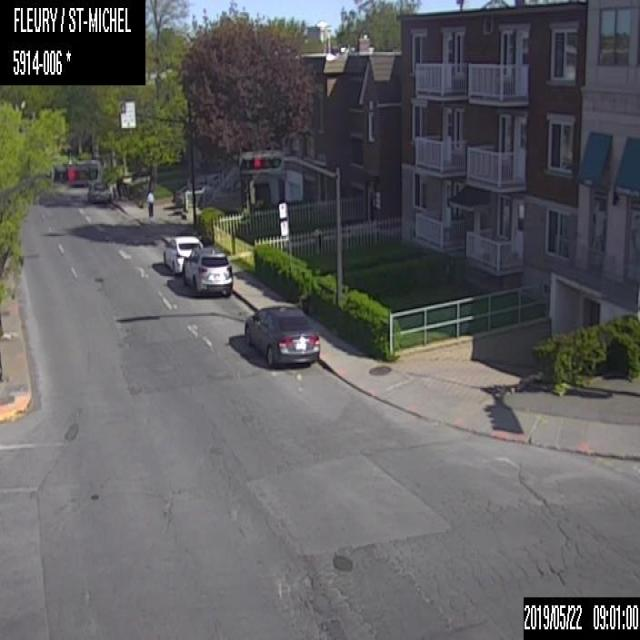pedestrian: (146, 188, 154, 217)
vehicle: (242, 304, 322, 368), (179, 243, 233, 297), (162, 232, 204, 274), (84, 177, 112, 204)
